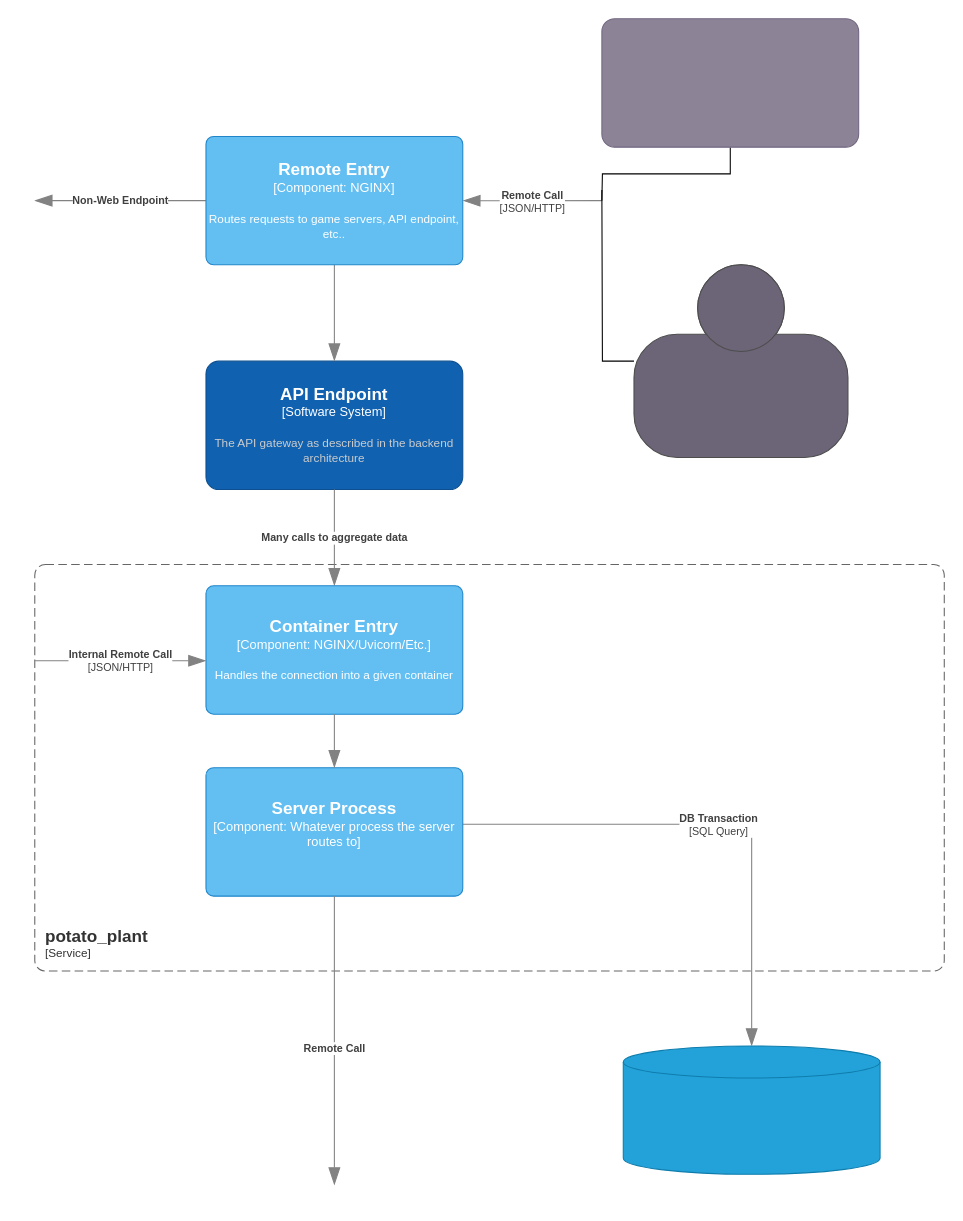
The diagram is 963 pixels wide and 1221 high, and some of its shapes have lost their labels. Each missing label, with the centre of its shape:
[Process]: point 730,82
[User]: point 740,360
Container name [Container: MySQL] Overall DB server that stores all DBs: point 751,1109
